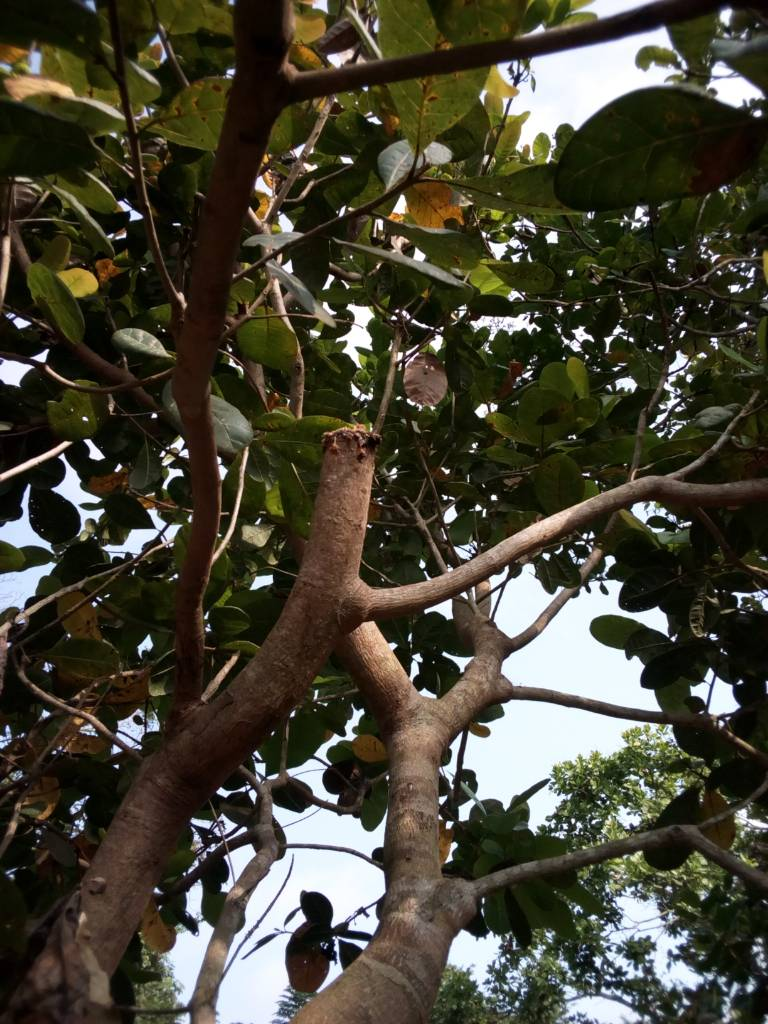Analepse trifasciata: (304, 419, 408, 485)
